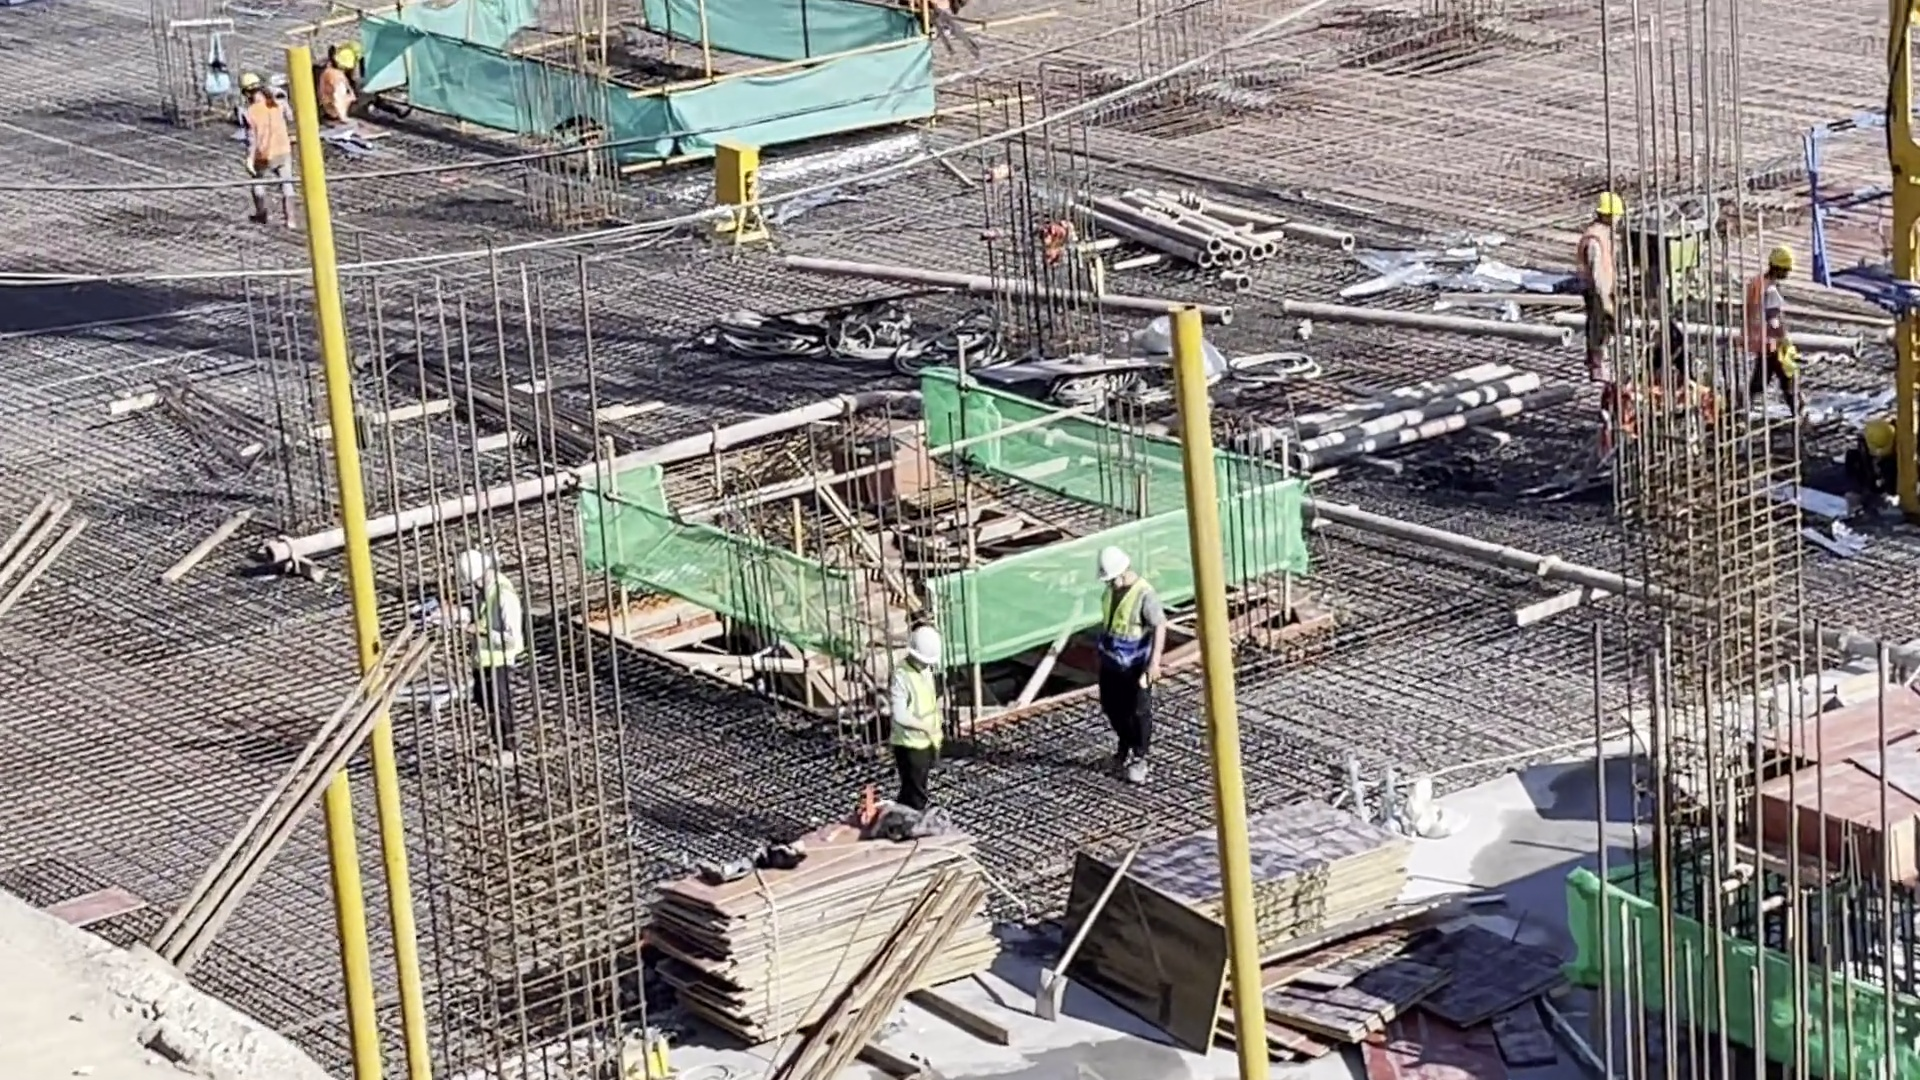helmet: (1094, 543, 1139, 582), (902, 625, 940, 661), (1862, 416, 1896, 454), (462, 550, 491, 583), (1596, 193, 1621, 217), (1772, 242, 1792, 272), (333, 42, 358, 66), (239, 73, 259, 93)
person: (1085, 542, 1170, 797), (459, 548, 523, 765), (882, 626, 951, 819), (229, 75, 304, 238), (1575, 191, 1632, 390), (1744, 239, 1800, 435), (1849, 417, 1917, 515), (317, 42, 367, 150)
vest: (1092, 582, 1154, 666), (887, 661, 937, 751), (473, 577, 521, 671), (1574, 221, 1622, 309), (239, 102, 294, 168), (1748, 273, 1789, 356), (313, 66, 366, 121)
